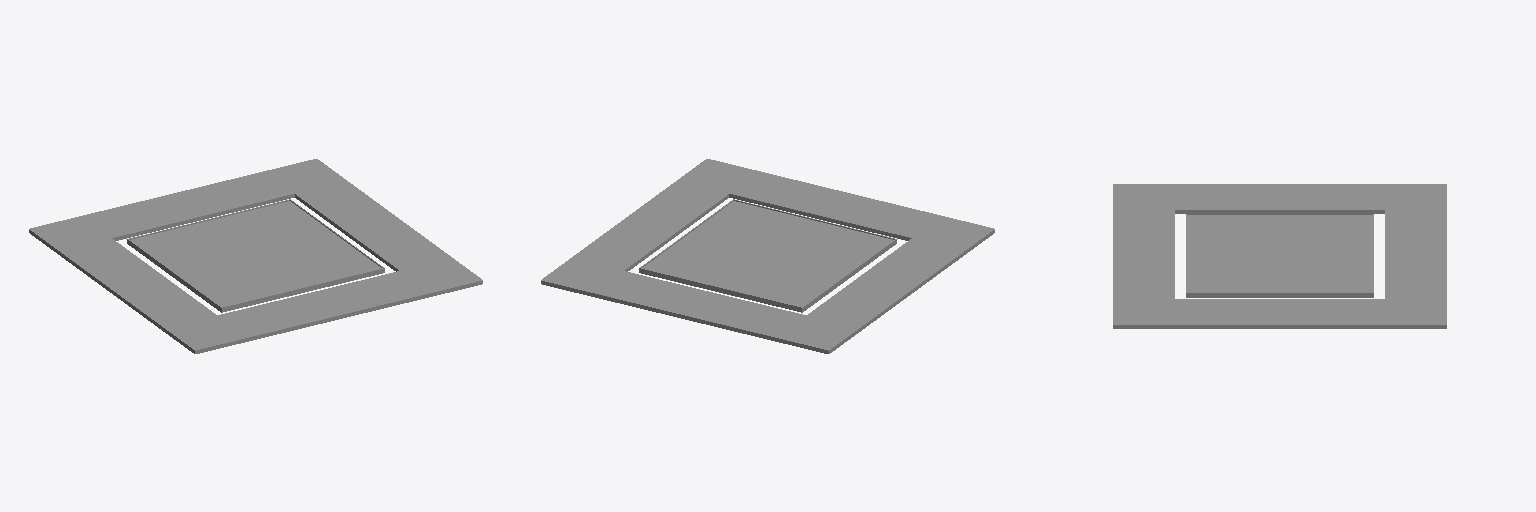
Rendered from track.obj.
The picture shows the model from 3 angles: view 1: azimuth 30°, elevation 25°; view 2: azimuth 150°, elevation 25°; view 3: azimuth 270°, elevation 25°; orthographic projection.
Visible parts, largest first — view 1: Cube; view 2: Cube; view 3: Cube.
Boxes of the visible parts, x1,y1,x2,y2 form: Cube: [29, 159, 482, 353]; Cube: [541, 159, 994, 353]; Cube: [1113, 184, 1446, 328].
Size of the model in its own units: 14.54 by 0.2371 by 14.54.